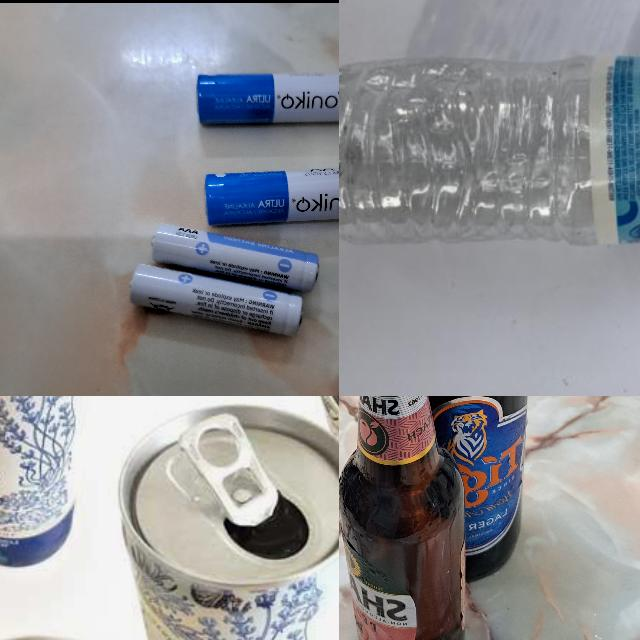aba de lata: (183, 403, 273, 539)
bateria: (128, 264, 302, 336), (150, 223, 320, 290), (205, 166, 339, 227), (196, 71, 339, 125)
garrafa de vidro: (339, 396, 462, 640), (382, 396, 531, 581)
garrafa plástica: (339, 52, 640, 248)
lata: (120, 402, 339, 640), (0, 396, 103, 570)
